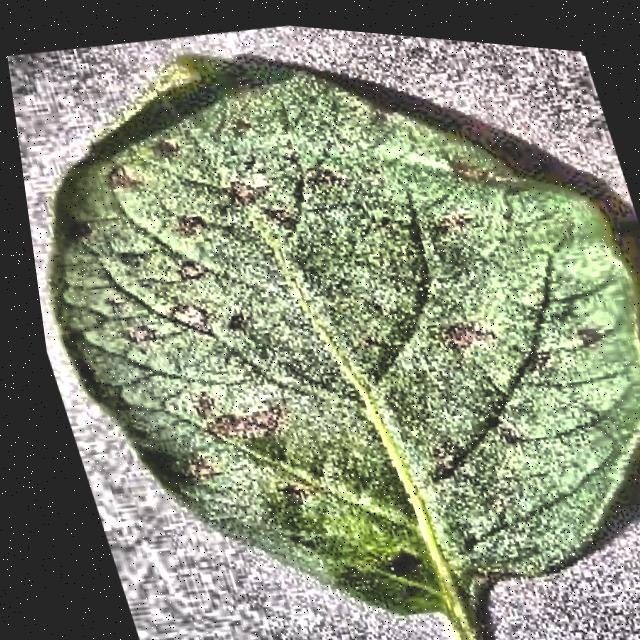Potato_leaf_early_blight: (52, 58, 640, 640)
